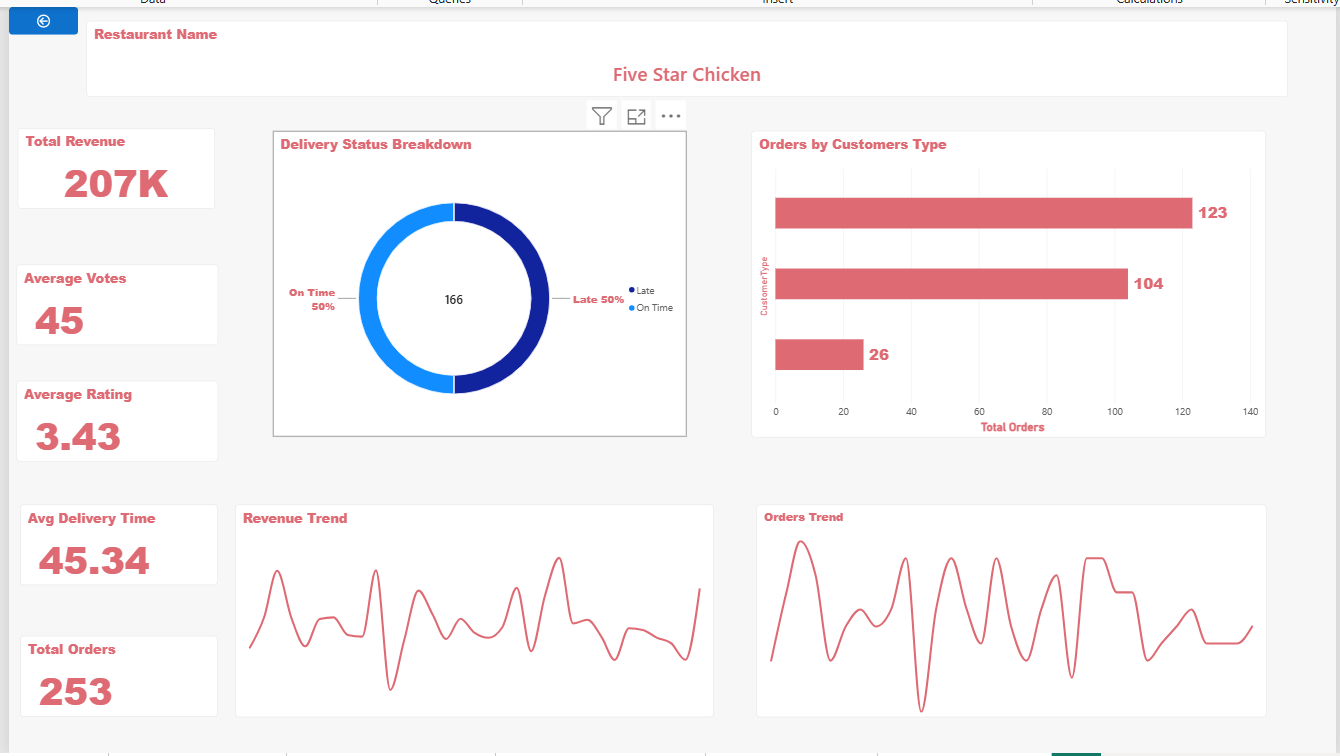

The dashboard page shown, as its layout file describes it:
{"tool":"powerbi","page":{"name":"Restaurant Details","canvas":[1920,1080],"ordinal":5},"visuals":[{"type":"cardVisual","title":"Avg Delivery Time","fields":{"Data":["Orders.Avg Delivery Time"]},"box":[16.3,720.2,285.7,116.9],"z":0},{"type":"cardVisual","title":"Total Revenue","fields":{"Data":["Orders.Total Revenue"]},"box":[13,175.3,285.7,116.9],"z":1000},{"type":"cardVisual","title":"Average Votes","fields":{"Data":["Orders.Avg Votes"]},"box":[10.8,372.2,292.2,116.9],"z":2000},{"type":"cardVisual","title":"Average Rating","fields":{"Data":["Orders.Avg Rating"]},"box":[10.8,541,292.2,116.9],"z":3000},{"type":"cardVisual","title":"Total Orders","fields":{"Data":["Orders.Total Orders"]},"box":[16.3,910.3,285.9,117.6],"z":4000},{"type":"cardVisual","title":"Restaurant Name","fields":{"Data":["Min(Restaurants.name)"]},"box":[112.2,19.9,1739.1,110.4],"z":5000},{"type":"lineChart","title":"Revenue Trend","fields":{"Y":["Orders.Total Revenue"],"Category":["DateTable.Date.Variation.Date Hierarchy.Year","DateTable.Date.Variation.Date Hierarchy.Month"]},"box":[327.5,720.2,693.1,307.6],"z":6000},{"type":"lineChart","title":"Orders Trend","fields":{"Category":["DateTable.Date.Variation.Date Hierarchy.Year","DateTable.Date.Variation.Date Hierarchy.Month"],"Y":["Orders.Total Orders"]},"box":[1082.2,720.2,738.3,307.6],"z":7000},{"type":"barChart","title":"Orders by Customers Type","fields":{"Y":["Orders.Total Orders"],"Category":["Customers.CustomerType"]},"box":[1075.2,179.2,744.5,443.7],"z":8000},{"type":"actionButton","box":[0,0,100,40],"z":9000},{"type":"donutChart","title":"Delivery Status Breakdown","fields":{"Y":["Orders.Total Orders"],"Category":["Orders.Delivery Status"]},"box":[381.9,179.2,599.5,443.7],"z":10000}]}

Visuals, with their boxes on the page's 1920x1080 design canvas (x1, y1, x2, y2). These are canvas units, not pixel positions in the 1340x756 screenshot, which may show the page scaled, cropped or inside an application window:
"Avg Delivery Time" cardVisual: left=16, top=720, right=302, bottom=837
"Total Revenue" cardVisual: left=13, top=175, right=299, bottom=292
"Average Votes" cardVisual: left=11, top=372, right=303, bottom=489
"Average Rating" cardVisual: left=11, top=541, right=303, bottom=658
"Total Orders" cardVisual: left=16, top=910, right=302, bottom=1028
"Restaurant Name" cardVisual: left=112, top=20, right=1851, bottom=130
"Revenue Trend" lineChart: left=328, top=720, right=1021, bottom=1028
"Orders Trend" lineChart: left=1082, top=720, right=1820, bottom=1028
"Orders by Customers Type" barChart: left=1075, top=179, right=1820, bottom=623
actionButton: left=0, top=0, right=100, bottom=40
"Delivery Status Breakdown" donutChart: left=382, top=179, right=981, bottom=623
